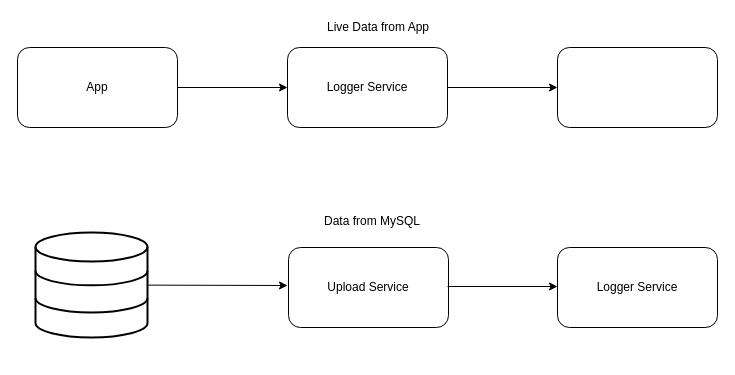
The diagram is 735 pixels wide and 375 high, and some of its shapes have lost their labels. The centre of each missing label's shape, as x and y in pixels:
"Big Query" belongs at (x=637, y=87).
"MySQL" belongs at (x=91, y=284).
